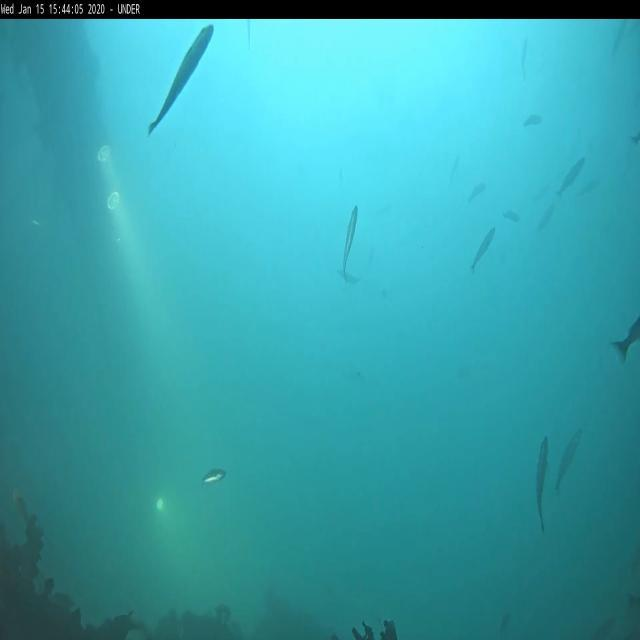fish: (148, 24, 215, 134), (556, 431, 582, 493), (610, 320, 639, 364), (472, 224, 496, 270), (343, 207, 358, 280), (536, 436, 547, 533), (559, 156, 586, 194), (204, 468, 226, 485), (538, 207, 554, 229), (521, 40, 529, 72), (523, 115, 542, 128), (470, 184, 484, 201), (504, 212, 522, 220), (247, 22, 251, 51)
